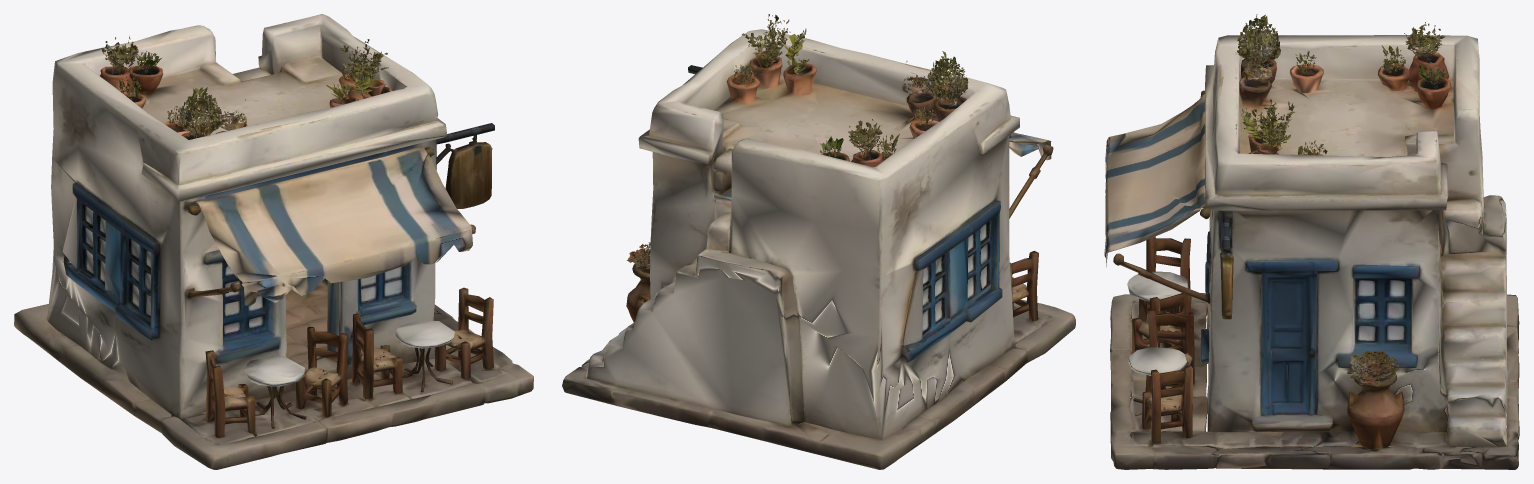
The model's file is biz_cafe_t1.trellis.glb.
3 views of the same model, side by side, from view 1: azimuth 30°, elevation 25°; view 2: azimuth 150°, elevation 25°; view 3: azimuth 270°, elevation 25° (orthographic). The views are drawn at different scales.
Visible parts, largest first — view 1: geometry_0; view 2: geometry_0; view 3: geometry_0.
Part boxes in pixels (x1=…): geometry_0: x1=14, y1=14, x2=533, y2=469; geometry_0: x1=562, y1=14, x2=1075, y2=469; geometry_0: x1=1104, y1=14, x2=1519, y2=469.
Size of the model in its own units: 5.6 by 5 by 5.76.
1 material, 1 textured.
